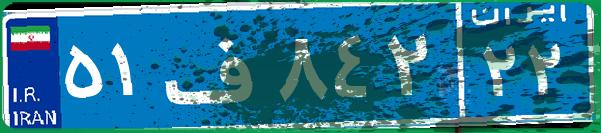1: (110, 28, 158, 105)
2: (385, 28, 445, 110), (475, 38, 525, 113), (525, 38, 570, 115)
4: (330, 28, 385, 110)
5: (57, 26, 110, 107)
8: (273, 28, 330, 110)
ف: (158, 15, 273, 115)
